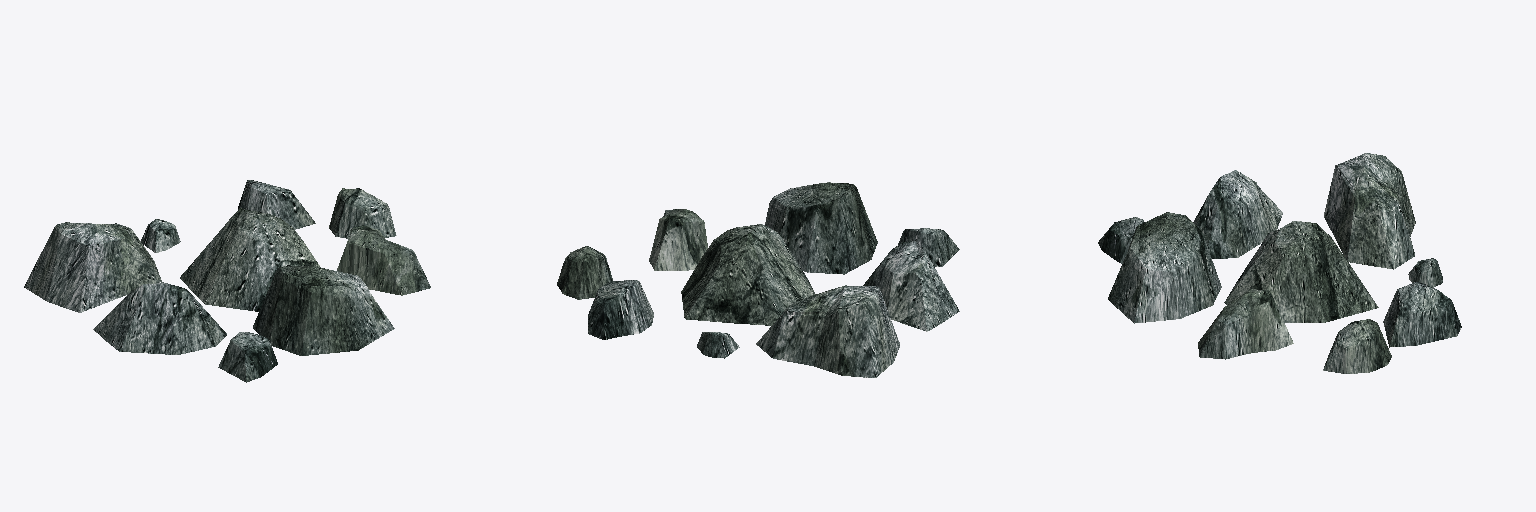
3 renders of one model, left to right at view 1: azimuth 30°, elevation 25°; view 2: azimuth 150°, elevation 25°; view 3: azimuth 270°, elevation 25°, orthographic.
Parts seen in each view (by area): view 1: polySurface1 polySurface27, polySurface1 polySurface28, polySurface26 polySurface1, polySurface1 polySurface32, polySurface1 polySurface33, polySurface1 polySurface31, polySurface1 polySurface34, polySurface1 polySurface29, polySurface1 polySurface30; view 2: polySurface26 polySurface1, polySurface1 polySurface28, polySurface1 polySurface27, polySurface1 polySurface32, polySurface1 polySurface29, polySurface1 polySurface33, polySurface1 polySurface31, polySurface1 polySurface34, polySurface1 polySurface30; view 3: polySurface26 polySurface1, polySurface1 polySurface27, polySurface1 polySurface28, polySurface1 polySurface32, polySurface1 polySurface33, polySurface1 polySurface29, polySurface1 polySurface31, polySurface1 polySurface34, polySurface1 polySurface30.
Part boxes in pixels (x1,y1,x2,y2): polySurface1 polySurface27: (253, 265, 394, 355); polySurface1 polySurface28: (24, 222, 161, 312); polySurface26 polySurface1: (180, 208, 320, 311); polySurface1 polySurface32: (93, 282, 226, 354); polySurface1 polySurface33: (337, 225, 430, 295); polySurface1 polySurface31: (329, 188, 396, 238); polySurface1 polySurface34: (218, 332, 277, 382); polySurface1 polySurface29: (238, 180, 315, 229); polySurface1 polySurface30: (141, 219, 180, 252); polySurface26 polySurface1: (681, 224, 815, 325); polySurface1 polySurface28: (756, 285, 899, 377); polySurface1 polySurface27: (765, 182, 877, 274); polySurface1 polySurface32: (863, 241, 959, 331); polySurface1 polySurface29: (588, 280, 653, 339); polySurface1 polySurface33: (649, 209, 707, 270); polySurface1 polySurface31: (557, 246, 612, 299); polySurface1 polySurface34: (898, 228, 959, 266); polySurface1 polySurface30: (697, 332, 739, 358); polySurface26 polySurface1: (1224, 221, 1378, 322); polySurface1 polySurface27: (1108, 212, 1221, 323); polySurface1 polySurface28: (1324, 153, 1415, 269); polySurface1 polySurface32: (1193, 170, 1282, 258); polySurface1 polySurface33: (1198, 289, 1293, 359); polySurface1 polySurface29: (1383, 282, 1461, 347); polySurface1 polySurface31: (1323, 319, 1391, 373); polySurface1 polySurface34: (1098, 217, 1143, 263); polySurface1 polySurface30: (1408, 258, 1442, 287).
Bounding box in the file's own units: 118 × 23.61 × 110.
Materials: 1 (1 with a texture image).